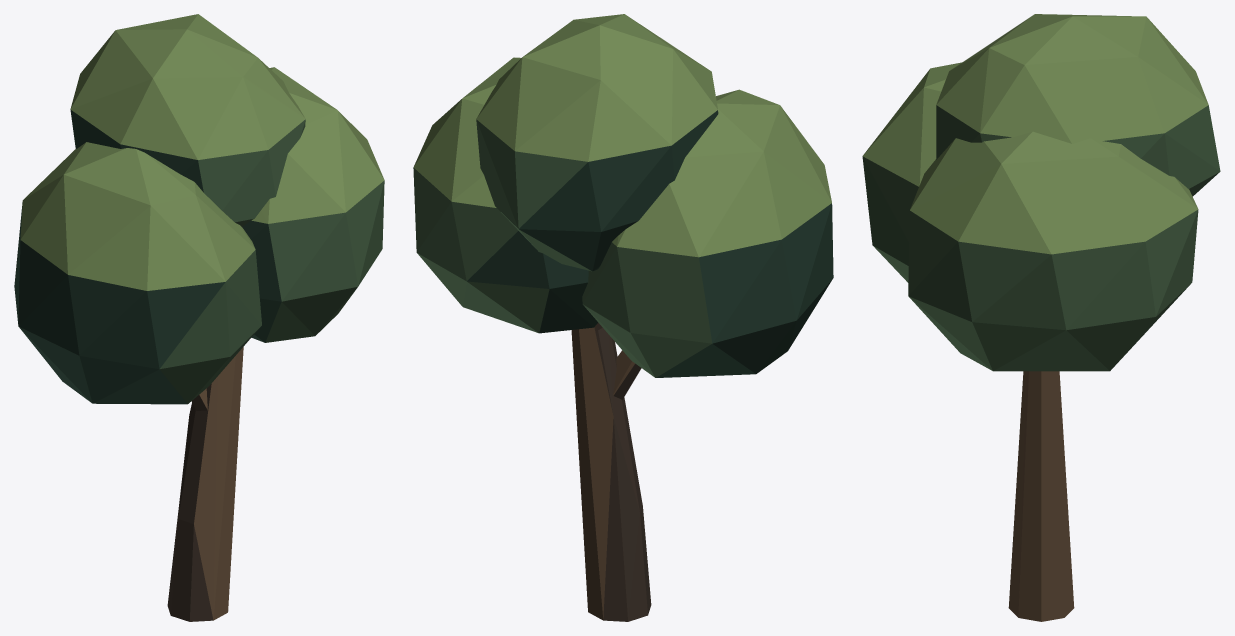
File: TW_TREE_ROUND_SMALL_A_LOD1.glb
The picture shows the model from 3 angles, left to right: view 1: azimuth 30°, elevation 25°; view 2: azimuth 150°, elevation 25°; view 3: azimuth 270°, elevation 25°; orthographic projection. The views are drawn at different scales.
Parts seen in each view (by area): view 1: TW_TREE_ROUND_SMALL_A_LOD1; view 2: TW_TREE_ROUND_SMALL_A_LOD1; view 3: TW_TREE_ROUND_SMALL_A_LOD1.
Part boxes in pixels (bbox=[...]): TW_TREE_ROUND_SMALL_A_LOD1: bbox=[14, 14, 384, 621]; TW_TREE_ROUND_SMALL_A_LOD1: bbox=[413, 14, 833, 621]; TW_TREE_ROUND_SMALL_A_LOD1: bbox=[862, 14, 1220, 621].
Size of the model in its own units: 1.8 by 2.8 by 1.53.
Materials: 1 (1 with a texture image).
